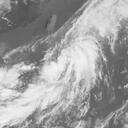cyclone: (43, 34, 99, 87)
